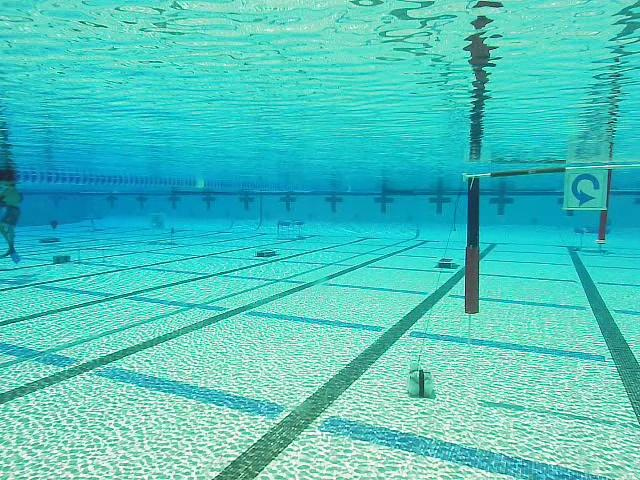dropper: (432, 257, 455, 270), (254, 248, 278, 257)
gate_blue: (564, 169, 606, 210)
gate_leg_l: (463, 173, 484, 315)
